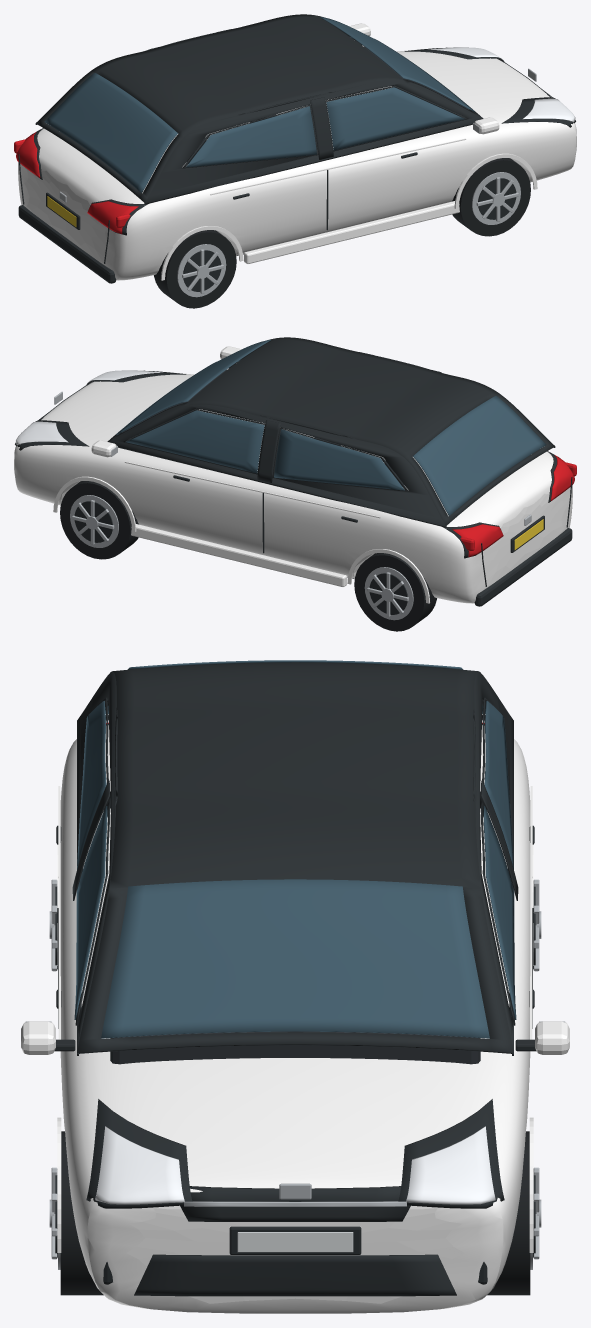
Rendered from vauxhall-corsa.glb.
3 views of the same model, one above another, from view 1: azimuth 30°, elevation 25°; view 2: azimuth 150°, elevation 25°; view 3: azimuth 270°, elevation 25° (orthographic). The views are drawn at different scales.
Parts seen in each view (by area): view 1: FleetBody, FleetTrim, FleetGlass, FleetRubber, FleetLights; view 2: FleetBody, FleetTrim, FleetGlass, FleetRubber, FleetLights; view 3: FleetTrim, FleetBody, FleetGlass, FleetLights, FleetRubber, FleetInterior.
Boxes of the visible parts, box(x1,y1,x2,y2) form: FleetBody: box(18, 23, 576, 280); FleetTrim: box(18, 14, 575, 297); FleetGlass: box(44, 16, 474, 192); FleetRubber: box(154, 158, 530, 308); FleetLights: box(14, 47, 575, 234); FleetBody: box(14, 346, 572, 603); FleetTrim: box(15, 337, 572, 620); FleetGlass: box(116, 339, 546, 515); FleetRubber: box(60, 481, 436, 631); FleetLights: box(15, 370, 576, 557); FleetTrim: box(26, 662, 564, 1296); FleetBody: box(21, 725, 569, 1313); FleetGlass: box(74, 660, 516, 1038); FleetLights: box(95, 722, 495, 1252); FleetRubber: box(60, 1131, 530, 1295); FleetInterior: box(110, 1031, 480, 1064).
Size of the model in its own units: 4.06 by 1.43 by 2.04.
